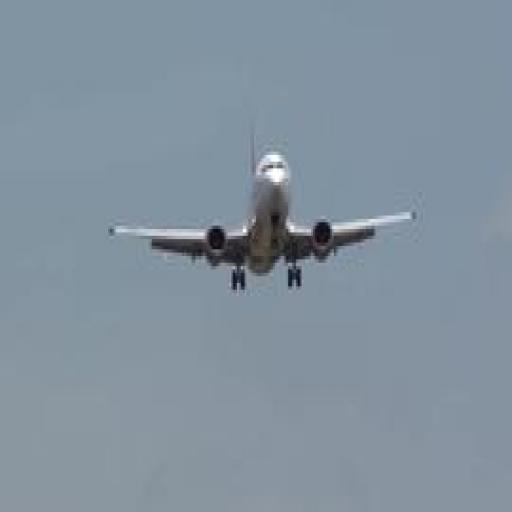aircraft: (106, 114, 419, 296)
